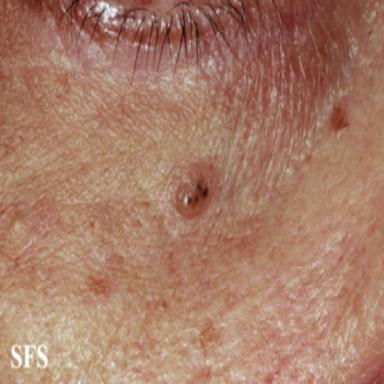basal-cell-carcinoma: (175, 157, 220, 218)
